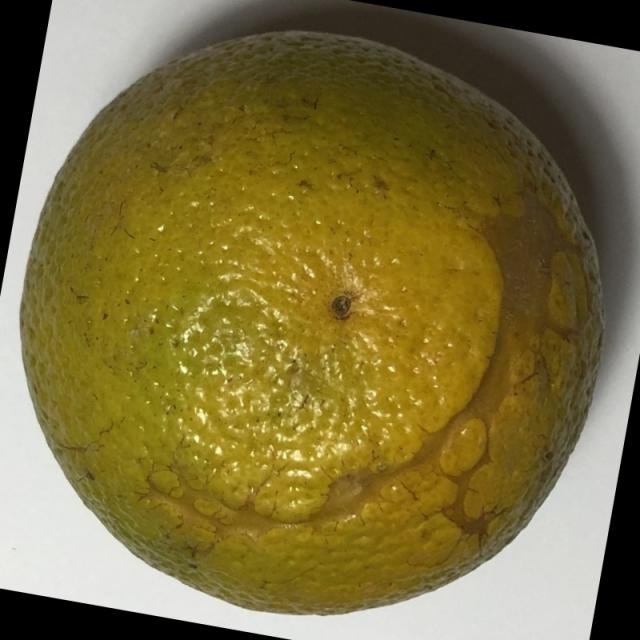canker: (16, 22, 614, 630)
